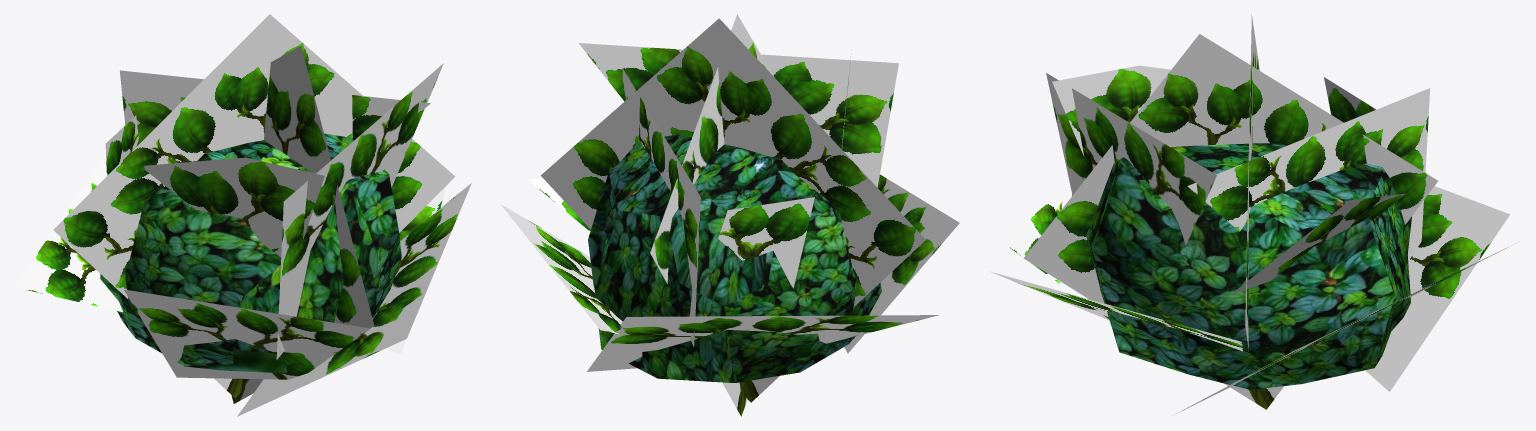
File: Bush1.fbx
The picture shows the model from 3 angles, left to right: view 1: azimuth 30°, elevation 25°; view 2: azimuth 150°, elevation 25°; view 3: azimuth 270°, elevation 25°; orthographic projection. The views are drawn at different scales.
Visible parts, largest first — view 1: Bush4; view 2: Bush4; view 3: Bush4.
Part boxes in pixels (box(x1,y1,x2,y2)): Bush4: box(14, 14, 471, 416); Bush4: box(500, 14, 959, 416); Bush4: box(990, 14, 1519, 415).
Bounding box in the file's own units: 0.1275 × 0.1077 × 0.1267.
